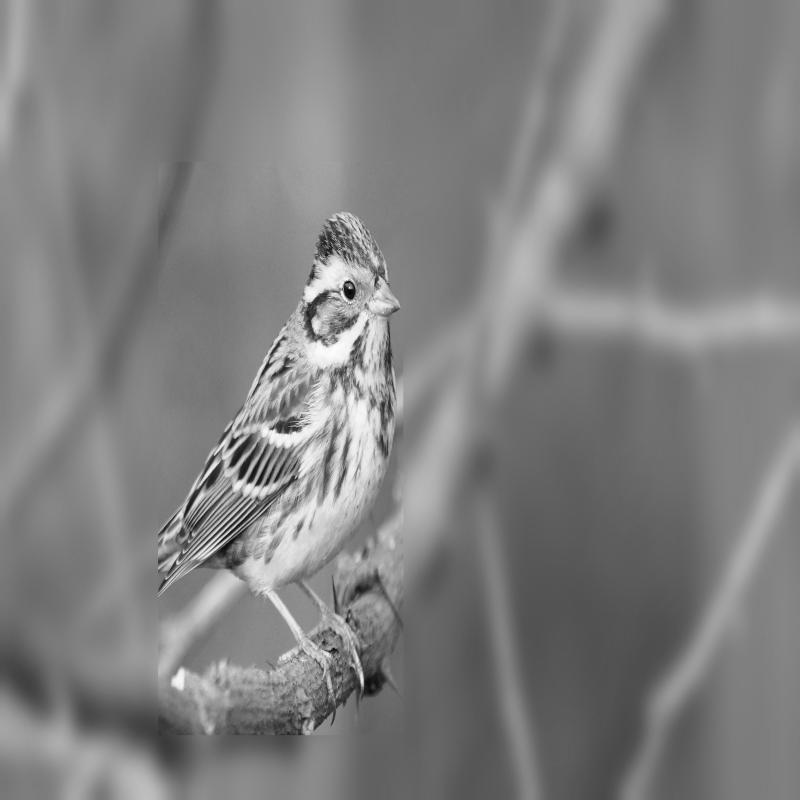rustic bunting: (154, 197, 403, 668)
